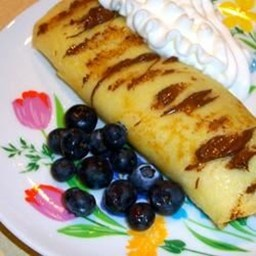background: (12, 0, 102, 92), (13, 12, 38, 86)
